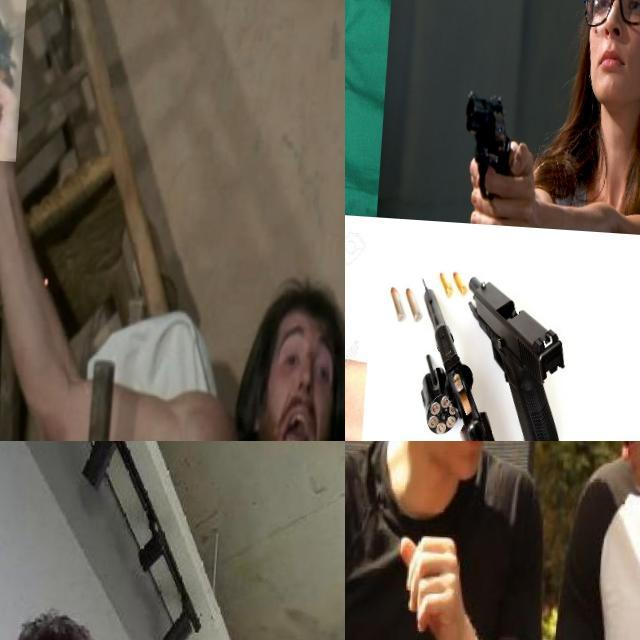gun-knife-thesis - v11 Yolov5 augmented: (410, 271, 542, 441), (462, 267, 575, 441), (345, 231, 432, 441), (345, 0, 479, 88), (461, 78, 516, 194), (0, 0, 34, 160)
